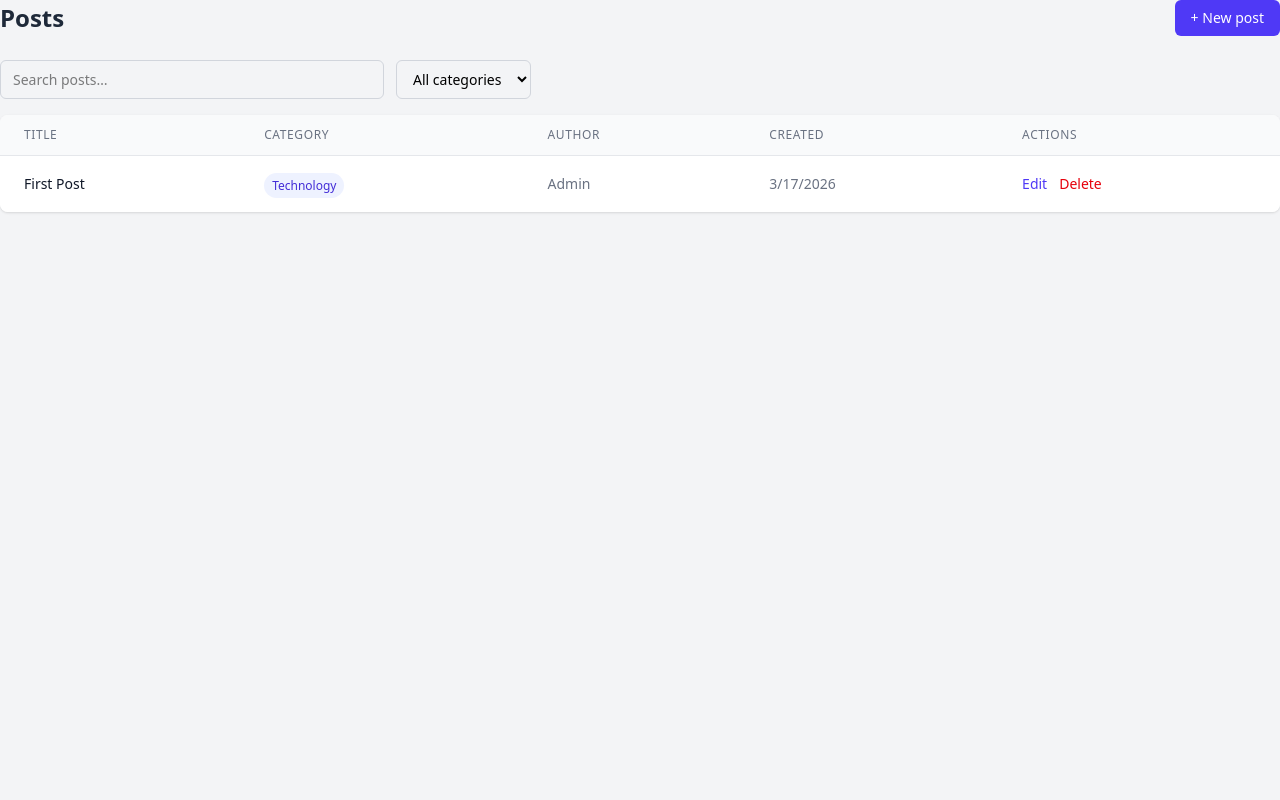
it: Posts page › opens create modal when clicking + New post
Check: the text "First Post" is shown, box [0,156,240,212]
Click the button "+ New post". click: (1227, 18)
box: [1175,0,1279,36]
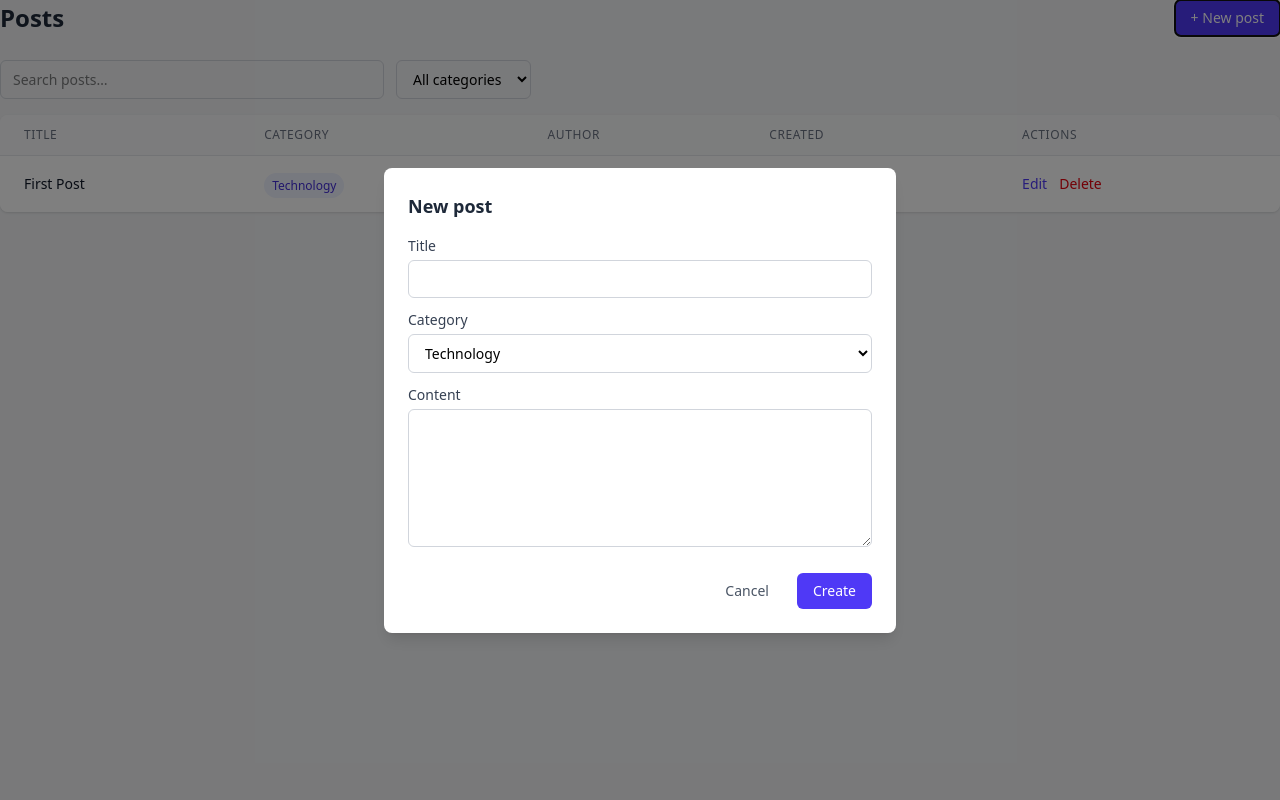
Check: the heading "New post" is shown, box [408,194,492,218]
Check: the field labelled "Title" is shown, box [408,260,872,298]
Check: the text box labelled "Content" is shown, box [408,408,872,546]
